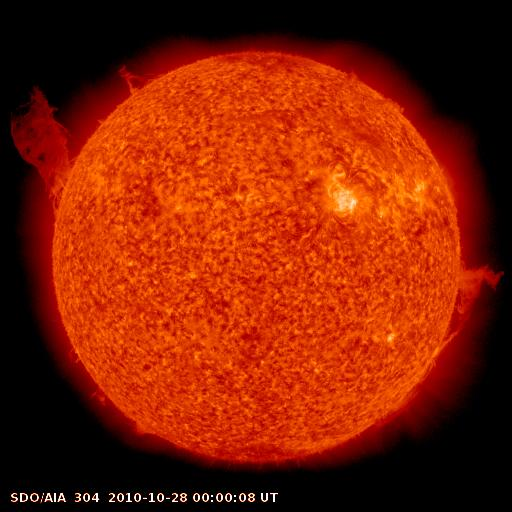prominence: (416, 255, 508, 383), (5, 78, 90, 214), (80, 381, 160, 443), (100, 53, 161, 102), (378, 83, 415, 120), (57, 336, 93, 370)
